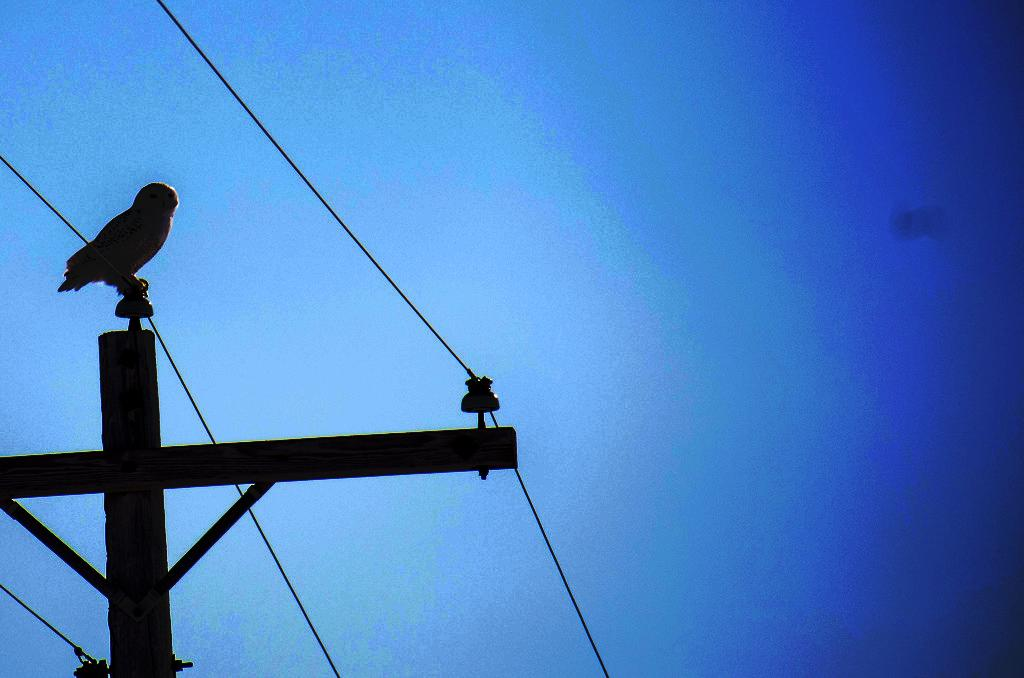Owl: (52, 171, 190, 301)
